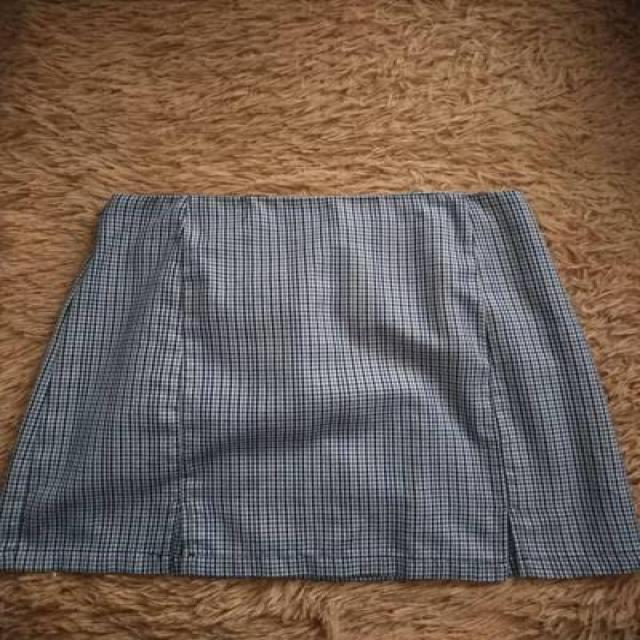skirt: (0, 164, 640, 595)
